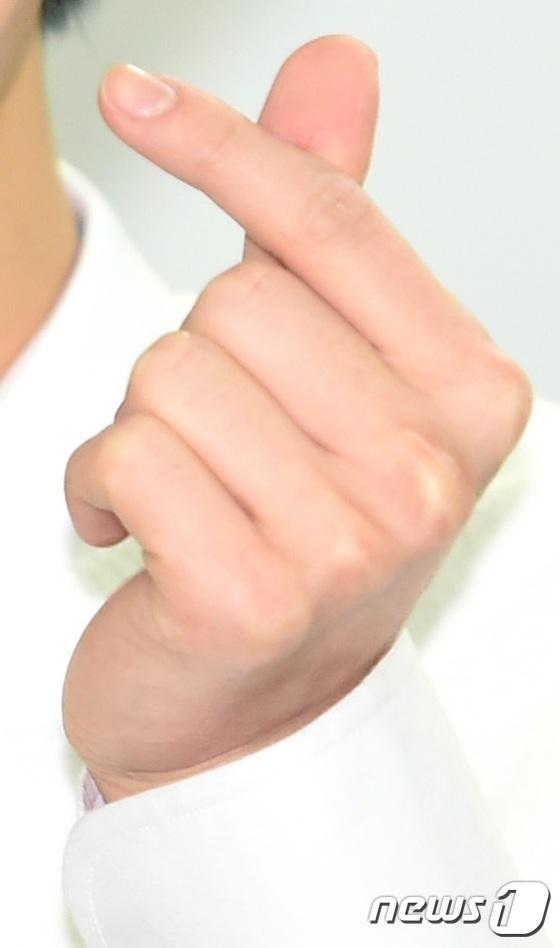heart gesture: (91, 25, 389, 265)
